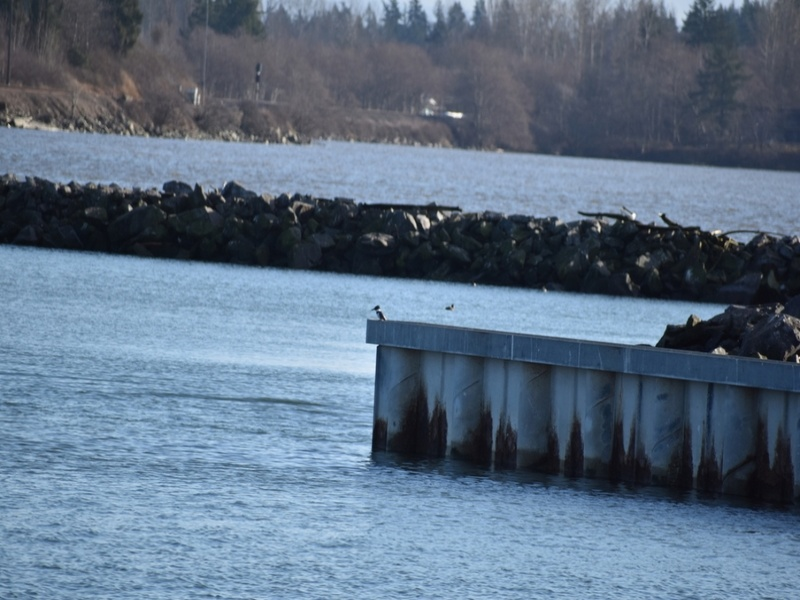kingfisher: (373, 304, 385, 320)
